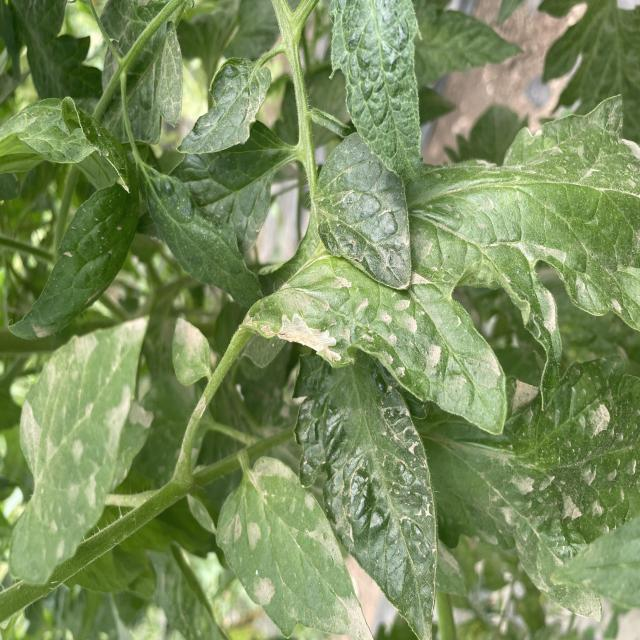Tuta absoluta: (274, 308, 350, 365)
